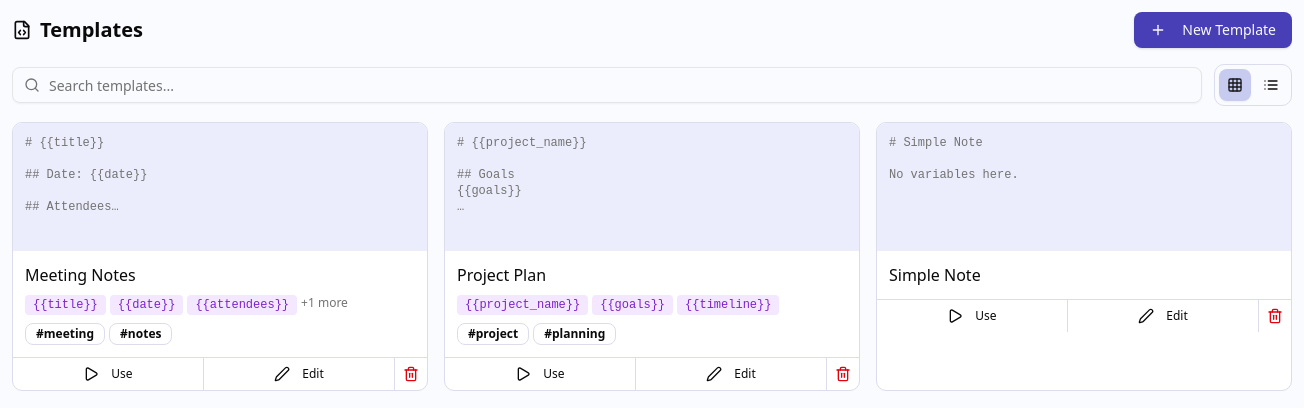
TemplateManager › Search › should show empty state when no matches
This screenshot has width=1304, height=408.
Expected: the heading "Meeting Notes" is shown, [25,264,136,286]
Type "nonexistent" into the search field with placeholder "Search templates...". click: {"x": 607, "y": 85}
box: [12,67,1202,103]
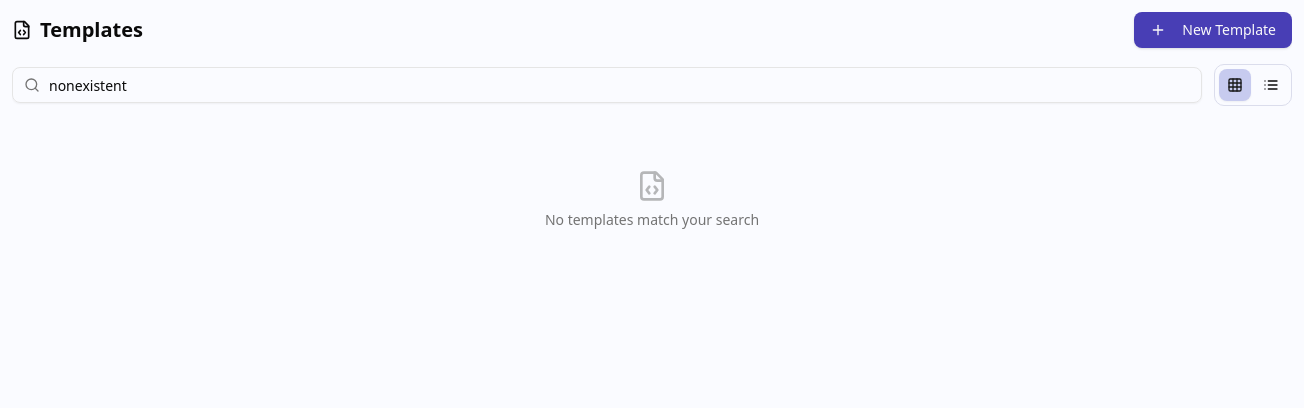
Now the text "No templates match your search" is shown, box [545,210,759,229]
